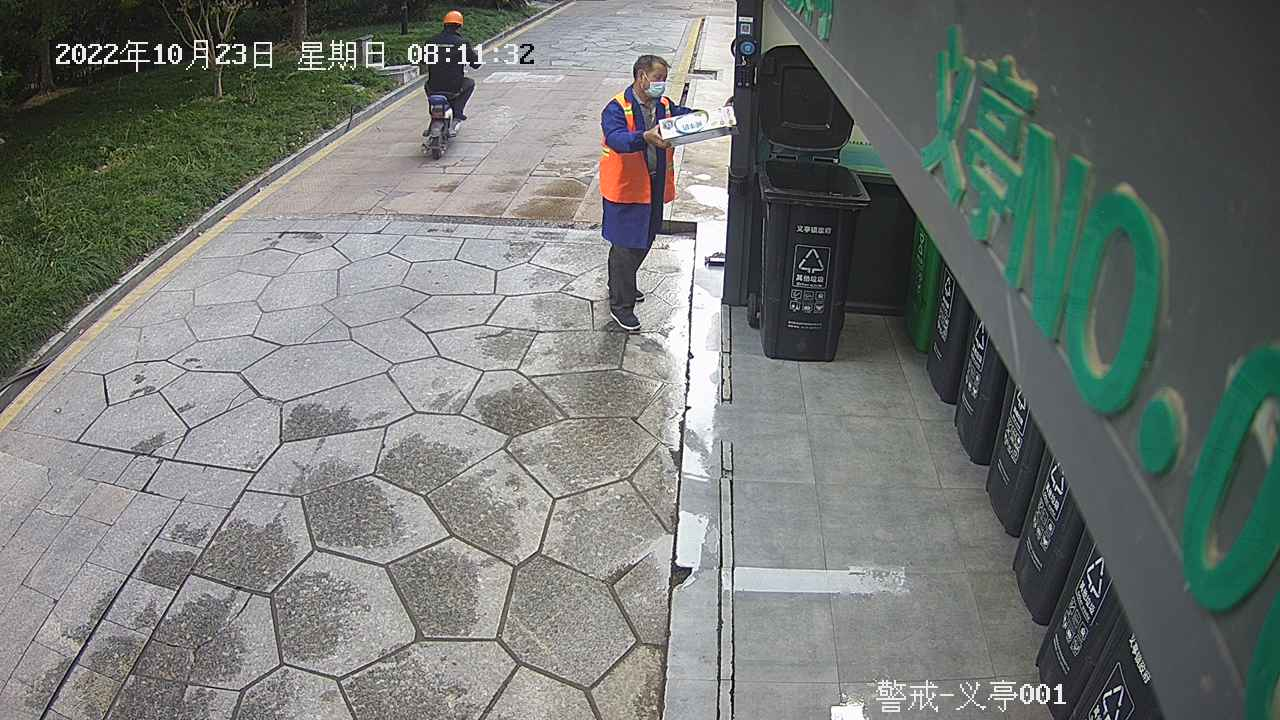person: (415, 7, 486, 131)
worker: (593, 51, 707, 333)
zhizhipin: (656, 103, 741, 150)
